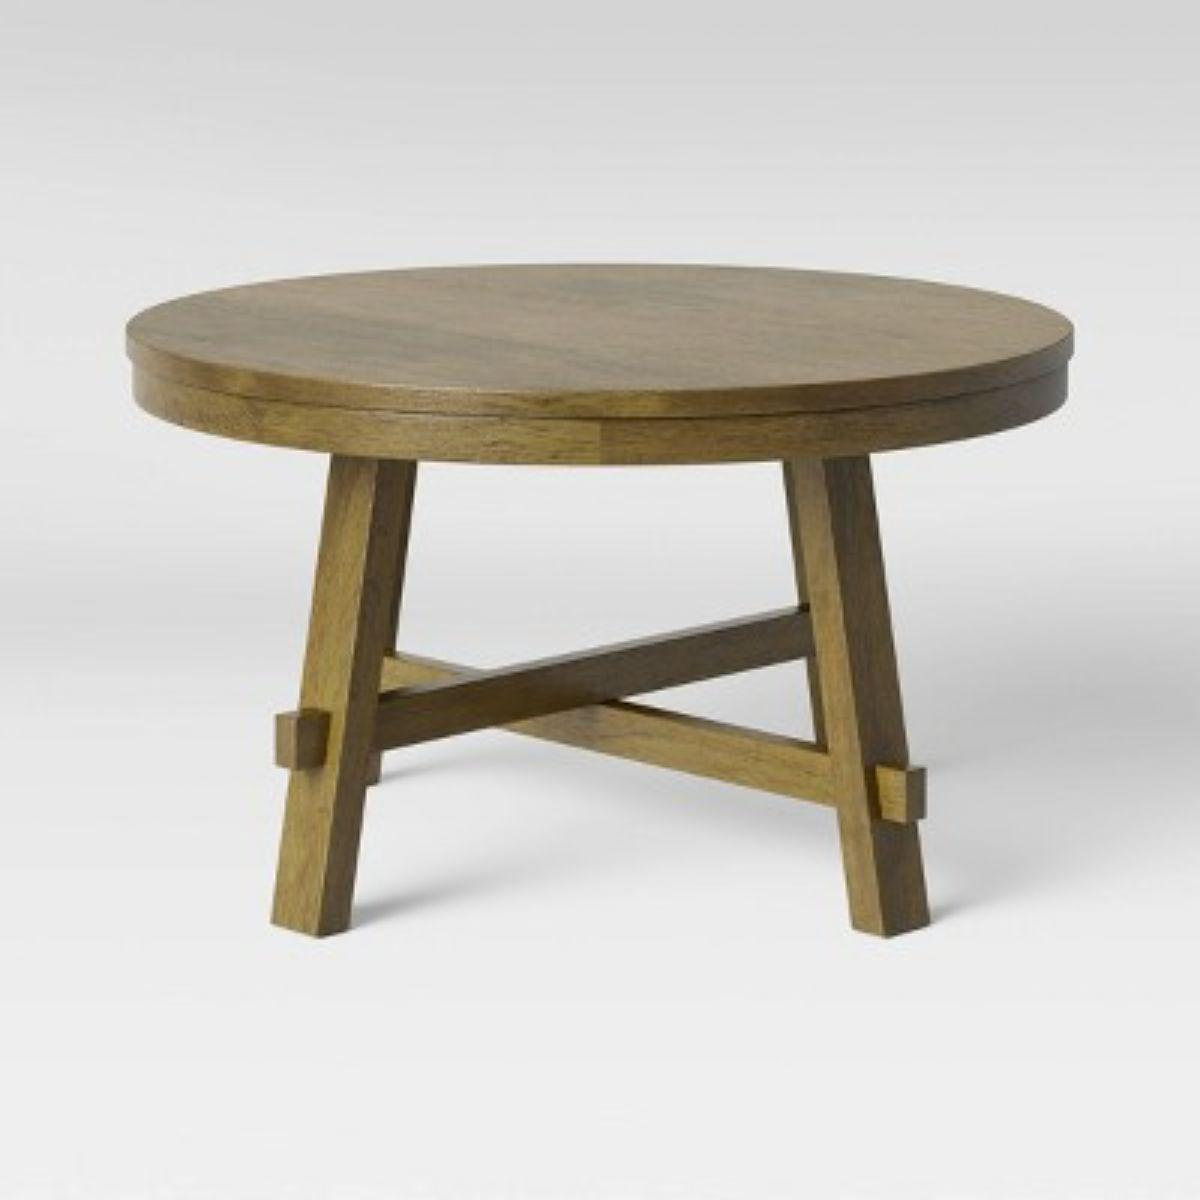Table: (96, 224, 1071, 993)
